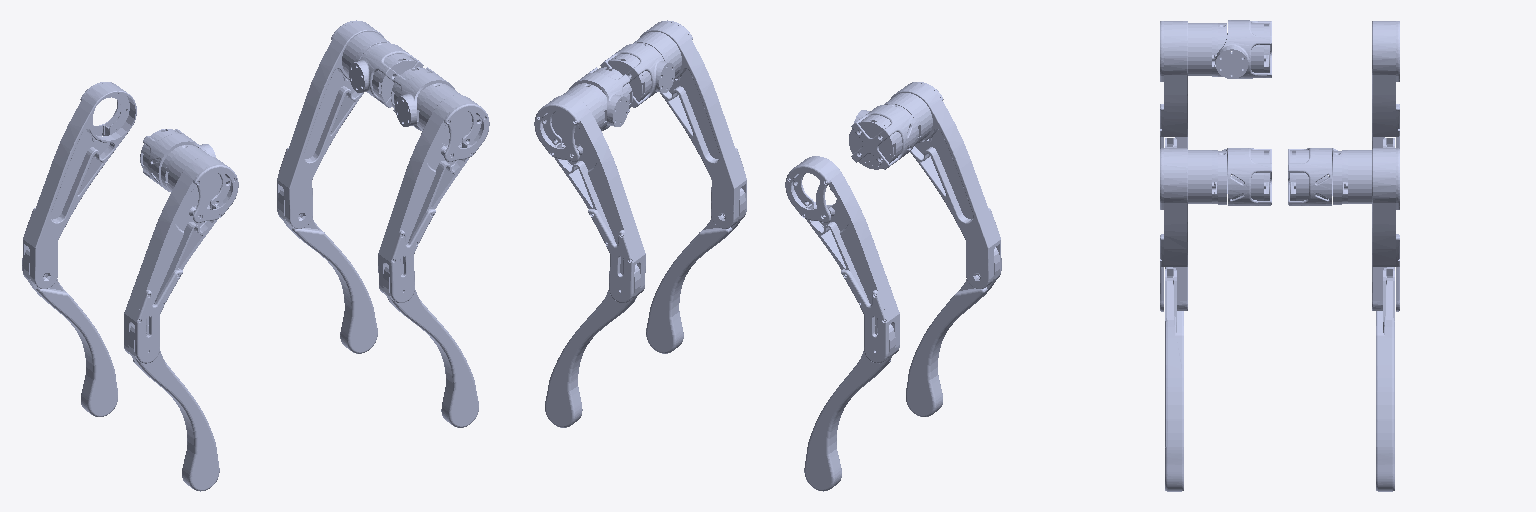
robot.urdf — littlewhite:
<?xml version="1.0" encoding="utf-8"?>
<robot
  name="littlewhite">
  <mujoco>
    <compiler
      meshdir="../meshes"
      balanceinertia="true"
      discardvisual="false" />
  </mujoco>
  <link
    name="base_link">
    <inertial>
      <origin
        xyz="-0.01204342 -0.00011397 -0.00061410"
        rpy="0 0 0" />
      <mass
        value="2.0" />
      <inertia 
        ixx="0.00509927" 
        iyy="0.01393531" 
        izz="0.01818843" 
        ixy="0.00000168" 
        iyz="0.00000252" 
        ixz="-0.00002258"/>
    </inertial>
    <visual>
      <origin
        xyz="0 0 0"
        rpy="0 0 0" />
      <geometry>
        <mesh
          filename="../meshes/base_link.STL" />
      </geometry>
      <material
        name="">
        <color
          rgba="0.792156862745098 0.819607843137255 0.933333333333333 1" />
      </material>
    </visual>
    <collision>
      <origin
        xyz="0 0 0"
        rpy="0 0 0" />
      <geometry>
        <mesh
          filename="../meshes/base_link_collision.stl" />
      </geometry>
    </collision>
  </link>
  <link
    name="FL_hip_link">
    <inertial>
      <origin
        xyz="0.03331333 0.00218418 -0.00003895"
        rpy="0 0 0" />
      <mass
        value="0.3" />
      <inertia 
        ixx="0.00026341" 
        iyy="0.00017811" 
        izz="0.00028488" 
        ixy="-0.00000101" 
        iyz="0.0000011" 
        ixz="-0.00000025"/>
    </inertial>
    <visual>
      <origin
        xyz="0 0 0"
        rpy="0 0 0" />
      <geometry>
        <mesh
          filename="../meshes/FL_hip_link.STL" />
      </geometry>
      <material
        name="">
        <color
          rgba="0.792156862745098 0.819607843137255 0.933333333333333 1" />
      </material>
    </visual>
    <collision>
      <origin
        xyz="0 0 0"
        rpy="0 0 0" />
      <geometry>
        <mesh
          filename="../meshes/FL_hip_collision.stl" />
      </geometry>
    </collision>
  </link>
  <joint
    name="FL_hip_joint"
    type="revolute">
    <origin
      xyz="0.1234 0.0510661438491521 0"
      rpy="0 0 0" />
    <parent
      link="base_link" />
    <child
      link="FL_hip_link" />
    <axis
      xyz="1 0 0" />
    <limit
      lower="-1.0472"
      upper="1.0472"
      effort="23.7"
      velocity="30.1" />
  </joint>
  <link
    name="FL_thigh_link">
    <inertial>
      <origin
        xyz="-0.04948796 0.00014953 -0.08497632"
        rpy="0 0 0" />
      <mass
        value="0.48" />
      <inertia 
        ixx="0.00169763" 
        iyy="0.00215821" 
        izz="0.00052878" 
        ixy="-0.00001723" 
        iyz="-0.00003114" 
        ixz="-0.00075516"/>
    </inertial>
    <visual>
      <origin
        xyz="0 0 0"
        rpy="0 0 0" />
      <geometry>
        <mesh
          filename="../meshes/FL_thigh_link.STL" />
      </geometry>
      <material
        name="">
        <color
          rgba="0.792156862745098 0.819607843137255 0.933333333333333 1" />
      </material>
    </visual>
    <collision>
      <origin
        xyz="0 0 0"
        rpy="0 0 0" />
      <geometry>
        <mesh
          filename="../meshes/FL_thigh_collision.stl" />
      </geometry>
    </collision>
  </link>
  <joint
    name="FL_thigh_joint"
    type="revolute">
    <origin
      xyz="0.0364999999998923 0.0595338561508431 0"
      rpy="0 0 0" />
    <parent
      link="FL_hip_link" />
    <child
      link="FL_thigh_link" />
    <axis
      xyz="0 1 0" />
    <limit
      lower="-1.5708"
      upper="1.5708"
      effort="23.7"
      velocity="30.1" />
  </joint>
  <link
    name="FL_calf_link">
    <inertial>
      <origin
        xyz="0.04216262 -0.00381767 -0.06204980"
        rpy="0 0 0" />
      <mass
        value="0.04" />
      <inertia 
        ixx="0.00007524" 
        iyy="0.00010881" 
        izz="0.00003626" 
        ixy="0.00000117" 
        iyz="-0.00000175" 
        ixz="0.0000485"/>
    </inertial>
    <visual>
      <origin
        xyz="0 0 0"
        rpy="0 0 0" />
      <geometry>
        <mesh
          filename="../meshes/FL_calf_link.STL" />
      </geometry>
      <material
        name="">
        <color
          rgba="0.792156862745098 0.819607843137255 0.933333333333333 1" />
      </material>
    </visual>
    <collision>
      <origin
        xyz="0 0 0"
        rpy="0 0 0" />
      <geometry>
        <mesh
          filename="../meshes/FL_calf_collision.stl" />
      </geometry>
    </collision>
  </link>
  <joint
    name="FL_calf_joint"
    type="revolute">
    <origin
      xyz="-0.0797979547511169 0.0057100000074559 -0.177734859753232"
      rpy="0 0 0" />
    <parent
      link="FL_thigh_link" />
    <child
      link="FL_calf_link" />
    <axis
      xyz="0 1 0" />
    <limit
      lower="-1.91"
      upper="0.0"
      effort="45.43"
      velocity="15.70" />
  </joint>
  <link
    name="FL_foot_link">
    <inertial>
      <origin
        xyz="0.00000526 0.00079999 -0.02548986"
        rpy="0 0 0" />
      <mass
        value="0.01000000" />
      <inertia
        ixx="0.00000939"
        ixy="0.00000000"
        ixz="0.00000000"
        iyy="0.00000881"
        iyz="-0.00000007"
        izz="0.00000129" />
    </inertial>
    <visual>
      <origin
        xyz="0 0 0"
        rpy="0 0 0" />
      <geometry>
        <mesh
          filename="../meshes/FL_paw_link.STL" />
      </geometry>
      <material
        name="">
        <color
          rgba="0.792156862745098 0.819607843137255 0.933333333333333 1" />
      </material>
    </visual>
    <collision>
      <origin
        xyz="0 0 0"
        rpy="0 0 0" />
      <geometry>
        <mesh
          filename="../meshes/FL_paw_collision.stl" />
      </geometry>
    </collision>
  </link>
  <joint
    name="FL_foot_joint"
    type="fixed">
    <origin
      xyz="0.0808648551671098 -0.00455000000710462 -0.13556178756198"
      rpy="0 0 -1.57079389681705" />
    <parent
      link="FL_calf_link" />
    <child
      link="FL_foot_link" />
    <axis
      xyz="0 0 0" />
  </joint>
  <link
    name="FR_hip_link">
    <inertial>
      <origin
        xyz="0.02763628 0.00800779 -0.00000706"
        rpy="0 0 0" />
      <mass
        value="0.3" />
      <inertia 
        ixx="0.00019088" 
        iyy="0.0002331" 
        izz="0.00024199" 
        ixy="-0.00002362" 
        iyz="-0.00000024" 
        ixz="-0.00000003"/>
    </inertial>
    <visual>
      <origin
        xyz="0 0 0"
        rpy="0 0 0" />
      <geometry>
        <mesh
          filename="../meshes/FR_hip_link.STL" />
      </geometry>
      <material
        name="">
        <color
          rgba="0.792156862745098 0.819607843137255 0.933333333333333 1" />
      </material>
    </visual>
    <collision>
      <origin
        xyz="0 0 0"
        rpy="0 0 0" />
      <geometry>
        <mesh
          filename="../meshes/FR_hip_collision.stl" />
      </geometry>
    </collision>
  </link>
  <joint
    name="FR_hip_joint"
    type="revolute">
    <origin
      xyz="0.1234 -0.0509338542435013 0"
      rpy="0 0 0" />
    <parent
      link="base_link" />
    <child
      link="FR_hip_link" />
    <axis
      xyz="1 0 0" />
    <limit
      lower="-1.0472"
      upper="1.0472"
      effort="23.7"
      velocity="30.1" />
  </joint>
  <link
    name="FR_thigh_link">
    <inertial>
      <origin
        xyz="-0.04948940 -0.00014939 -0.08497556"
        rpy="0 0 0" />
      <mass
        value="0.48" />
      <inertia 
        ixx="0.00169762" 
        iyy="0.0021581" 
        izz="0.00052868" 
        ixy="0.00001724" 
        iyz="0.00003113" 
        ixz="-0.00075512"/>
    </inertial>
    <visual>
      <origin
        xyz="0 0 0"
        rpy="0 0 0" />
      <geometry>
        <mesh
          filename="../meshes/FR_thigh_link.STL" />
      </geometry>
      <material
        name="">
        <color
          rgba="0.792156862745098 0.819607843137255 0.933333333333333 1" />
      </material>
    </visual>
    <collision>
      <origin
        xyz="0 0 0"
        rpy="0 0 0" />
      <geometry>
        <mesh
          filename="../meshes/FR_thigh_collision.stl" />
      </geometry>
    </collision>
  </link>
  <joint
    name="FR_thigh_joint"
    type="revolute">
    <origin
      xyz="0.0364999999998896 -0.0596661457564947 0"
      rpy="0 0 0" />
    <parent
      link="FR_hip_link" />
    <child
      link="FR_thigh_link" />
    <axis
      xyz="0 1 0" />
    <limit
      lower="-1.5708"
      upper="1.5708"
      effort="23.7"
      velocity="30.1" />
  </joint>
  <link
    name="FR_calf_link">
    <inertial>
      <origin
        xyz="0.04216523 0.00382068 -0.06204916"
        rpy="0 0 0" />
      <mass
        value="0.04" />
      <inertia 
        ixx="0.00007524" 
        iyy="0.00010881" 
        izz="0.00003627" 
        ixy="-0.00000117" 
        iyz="0.00000176" 
        ixz="0.00004851"/>
    </inertial>
    <visual>
      <origin
        xyz="0 0 0"
        rpy="0 0 0" />
      <geometry>
        <mesh
          filename="../meshes/FR_calf_link.STL" />
      </geometry>
      <material
        name="">
        <color
          rgba="0.792156862745098 0.819607843137255 0.933333333333333 1" />
      </material>
    </visual>
    <collision>
      <origin
        xyz="0 0 0"
        rpy="0 0 0" />
      <geometry>
        <mesh
          filename="../meshes/FR_calf_collision.stl" />
      </geometry>
    </collision>
  </link>
  <joint
    name="FR_calf_joint"
    type="revolute">
    <origin
      xyz="-0.07979795475272 -0.00571000000745676 -0.177734859752691"
      rpy="0 0 0" />
    <parent
      link="FR_thigh_link" />
    <child
      link="FR_calf_link" />
    <axis
      xyz="0 1 0" />
    <limit
      lower="-1.91"
      upper="0.0"
      effort="45.43"
      velocity="15.70" />
  </joint>
  <link
    name="FR_foot_link">
    <inertial>
        <origin
          xyz="0.00078591 0.00000000 -0.02549509"
          rpy="0 0 0" />
        <mass
          value="0.01000000" />
        <inertia
          ixx="0.00000881"
          ixy="0.00000000"
          ixz="-0.00000007"
          iyy="0.00000939"
          iyz="0.00000000"
          izz="0.00000129" />
      </inertial>
    <visual>
      <origin
        xyz="0 0 0"
        rpy="0 0 0" />
      <geometry>
        <mesh
          filename="../meshes/FR_paw_link.STL" />
      </geometry>
      <material
        name="">
        <color
          rgba="0.792156862745098 0.819607843137255 0.933333333333333 1" />
      </material>
    </visual>
    <collision>
      <origin
        xyz="0 0 0"
        rpy="0 0 0" />
      <geometry>
        <mesh
          filename="../meshes/FL_paw_collision.stl" />
      </geometry>
    </collision>
  </link>
  <joint
    name="FR_foot_joint"
    type="fixed">
    <origin
      xyz="0.0808736911194098 0.00455000000745538 -0.135559326977152"
      rpy="0 0 0" />
    <parent
      link="FR_calf_link" />
    <child
      link="FR_foot_link" />
    <axis
      xyz="0 0 0" />
  </joint>
  <link
    name="RL_hip_link">
    <inertial>
      <origin
        xyz="-0.03348869 0.00218418 -0.00018813"
        rpy="0 0 0" />
      <mass
        value="0.3" />
      <inertia 
        ixx="0.00026341" 
        iyy="0.00017842" 
        izz="0.00028519" 
        ixy="0.0000014" 
        iyz="-0.00000075" 
        ixz="-0.00000036"/>
    </inertial>
    <visual>
      <origin
        xyz="0 0 0"
        rpy="0 0 0" />
      <geometry>
        <mesh
          filename="../meshes/RL_hip_link.STL" />
      </geometry>
      <material
        name="">
        <color
          rgba="0.792156862745098 0.819607843137255 0.933333333333333 1" />
      </material>
    </visual>
    <collision>
      <origin
        xyz="0 0 0"
        rpy="0 0 0" />
      <geometry>
        <mesh
          filename="../meshes/RL_hip_collision.stl" />
      </geometry>
    </collision>
  </link>
  <joint
    name="RL_hip_joint"
    type="revolute">
    <origin
      xyz="-0.1234 0.0510661438491522 0"
      rpy="0 0 0" />
    <parent
      link="base_link" />
    <child
      link="RL_hip_link" />
    <axis
      xyz="1 0 0" />
    <limit
      lower="-1.0472"
      upper="1.0472"
      effort="23.7"
      velocity="30.1" />
  </joint>
  <link
    name="RL_thigh_link">
    <inertial>
      <origin
        xyz="-0.05192485 0.00014953 -0.08350948"
        rpy="0 0 0" />
      <mass
        value="0.48" />
      <inertia 
        ixx="0.00165299" 
        iyy="0.00215822" 
        izz="0.00057342" 
        ixy="-0.00001812" 
        iyz="-0.00003062" 
        ixz="-0.00078769"/>
    </inertial>
    <visual>
      <origin
        xyz="0 0 0"
        rpy="0 0 0" />
      <geometry>
        <mesh
          filename="../meshes/RL_thigh_link.STL" />
      </geometry>
      <material
        name="">
        <color
          rgba="0.792156862745098 0.819607843137255 0.933333333333333 1" />
      </material>
    </visual>
    <collision>
      <origin
        xyz="0 0 0"
        rpy="0 0 0" />
      <geometry>
        <mesh
          filename="../meshes/FL_thigh_collision.stl" />
      </geometry>
    </collision>
  </link>
  <joint
    name="RL_thigh_joint"
    type="revolute">
    <origin
      xyz="-0.0364999999998925 0.059533856150843 0"
      rpy="0 0 0" />
    <parent
      link="RL_hip_link" />
    <child
      link="RL_thigh_link" />
    <axis
      xyz="0 1 0" />
    <limit
      lower="-1.5708"
      upper="1.5708"
      effort="23.7"
      velocity="30.1" />
  </joint>
  <link
    name="RL_calf_link">
    <inertial>
      <origin
        xyz="0.03963025 -0.00382049 -0.06348497"
        rpy="0 0 0" />
      <mass
        value="0.04" />
      <inertia 
        ixx="0.00007859" 
        iyy="0.00010881" 
        izz="0.00003292" 
        ixy="0.00000111" 
        iyz="-0.0000018" 
        ixz="0.00004703"/>
    </inertial>
    <visual>
      <origin
        xyz="0 0 0"
        rpy="0 0 0" />
      <geometry>
        <mesh
          filename="../meshes/RL_calf_link.STL" />
      </geometry>
      <material
        name="">
        <color
          rgba="0.792156862745098 0.819607843137255 0.933333333333333 1" />
      </material>
    </visual>
    <collision>
      <origin
        xyz="0 0 0"
        rpy="0 0 0" />
      <geometry>
        <mesh
          filename="../meshes/FL_calf_collision.stl" />
      </geometry>
    </collision>
  </link>
  <joint
    name="RL_calf_joint"
    type="revolute">
    <origin
      xyz="-0.0845699035706932 0.00571000000745585 -0.175355557164464"
      rpy="0 0 0" />
    <parent
      link="RL_thigh_link" />
    <child
      link="RL_calf_link" />
    <axis
      xyz="0 1 0" />
    <limit
      lower="-1.91"
      upper="0.0"
      effort="45.43"
      velocity="15.70" />
  </joint>
  <link
    name="RL_foot_link">
    <inertial>
      <origin
        xyz="-0.00010845 0.00000000 -0.02550655"
        rpy="0 0 0" />
      <mass
        value="0.01000000" />
      <inertia
        ixx="0.00000881"
        ixy="0.00000000"
        ixz="0.00000020"
        iyy="0.00000939"
        iyz="0.00000000"
        izz="0.00000129" />
    </inertial>
    <visual>
      <origin
        xyz="0 0 0"
        rpy="0 0 0" />
      <geometry>
        <mesh
          filename="../meshes/RL_paw_link.STL" />
      </geometry>
      <material
        name="">
        <color
          rgba="0.792156862745098 0.819607843137255 0.933333333333333 1" />
      </material>
    </visual>
    <collision>
      <origin
        xyz="0 0 0"
        rpy="0 0 0" />
      <geometry>
        <mesh
          filename="../meshes/FL_paw_collision.stl" />
      </geometry>
    </collision>
  </link>
  <joint
    name="RL_foot_joint"
    type="fixed">
    <origin
      xyz="0.0757392521105553 -0.00455000000746522 -0.138306710543388"
      rpy="0 0 0" />
    <parent
      link="RL_calf_link" />
    <child
      link="RL_foot_link" />
    <axis
      xyz="0.94688 0 -0.32158" />
  </joint>
  <link
    name="RR_hip_link">
    <inertial>
      <origin
        xyz="-0.02767159 0.00800779 -0.00003868"
        rpy="0 0 0" />
      <mass
        value="0.3" />
      <inertia 
        ixx="0.00019089" 
        iyy="0.00023328" 
        izz="0.00024218" 
        ixy="0.00002343" 
        iyz="0.00000004" 
        ixz="-0.00000014"/>
    </inertial>
    <visual>
      <origin
        xyz="0 0 0"
        rpy="0 0 0" />
      <geometry>
        <mesh
          filename="../meshes/RR_hip_link.STL" />
      </geometry>
      <material
        name="">
        <color
          rgba="0.792156862745098 0.819607843137255 0.933333333333333 1" />
      </material>
    </visual>
    <collision>
      <origin
        xyz="0 0 0"
        rpy="0 0 0" />
      <geometry>
        <mesh
          filename="../meshes/RR_hip_collision.stl" />
      </geometry>
    </collision>
  </link>
  <joint
    name="RR_hip_joint"
    type="revolute">
    <origin
      xyz="-0.1234 -0.0509338542435013 0"
      rpy="0 0 0" />
    <parent
      link="base_link" />
    <child
      link="RR_hip_link" />
    <axis
      xyz="1 0 0" />
    <limit
      lower="-1.0472"
      upper="1.0472"
      effort="23.7"
      velocity="30.1" />
  </joint>
  <link
    name="RR_thigh_link">
    <inertial>
      <origin
        xyz="-0.05192615 -0.00014945 -0.08350805"
        rpy="0 0 0" />
      <mass
        value="0.48" />
      <inertia 
        ixx="0.00165301" 
        iyy="0.00215813" 
        izz="0.00057332" 
        ixy="0.00001813" 
        iyz="0.0000306" 
        ixz="-0.00078767"/>
    </inertial>
    <visual>
      <origin
        xyz="0 0 0"
        rpy="0 0 0" />
      <geometry>
        <mesh
          filename="../meshes/RR_thigh_link.STL" />
      </geometry>
      <material
        name="">
        <color
          rgba="0.792156862745098 0.819607843137255 0.933333333333333 1" />
      </material>
    </visual>
    <collision>
      <origin
        xyz="0 0 0"
        rpy="0 0 0" />
      <geometry>
        <mesh
          filename="../meshes/FR_thigh_collision.stl" />
      </geometry>
    </collision>
  </link>
  <joint
    name="RR_thigh_joint"
    type="revolute">
    <origin
      xyz="-0.0364999999998896 -0.0596661457564947 0"
      rpy="0 0 0" />
    <parent
      link="RR_hip_link" />
    <child
      link="RR_thigh_link" />
    <axis
      xyz="0 1 0" />
    <limit
      lower="-1.5708"
      upper="1.5708"
      effort="23.7"
      velocity="30.1" />
  </joint>
  <link
    name="RR_calf_link">
    <inertial>
      <origin
        xyz="0.03996525 0.00382068 -0.06348829"
        rpy="0 0 0" />
      <mass
        value="0.04" />
      <inertia 
        ixx="0.00007859" 
        iyy="0.00010881" 
        izz="0.00003292" 
        ixy="-0.00000111" 
        iyz="0.0000018" 
        ixz="0.00004703"/>
    </inertial>
    <visual>
      <origin
        xyz="0 0 0"
        rpy="0 0 0" />
      <geometry>
        <mesh
          filename="../meshes/RR_calf_link.STL" />
      </geometry>
      <material
        name="">
        <color
          rgba="0.792156862745098 0.819607843137255 0.933333333333333 1" />
      </material>
    </visual>
    <collision>
      <origin
        xyz="0 0 0"
        rpy="0 0 0" />
      <geometry>
        <mesh
          filename="../meshes/FR_calf_collision.stl" />
      </geometry>
    </collision>
  </link>
  <joint
    name="RR_calf_joint"
    type="revolute">
    <origin
      xyz="-0.0849050519458896 -0.00571000000745676 -0.175352576565309"
      rpy="0 0 0" />
    <parent
      link="RR_thigh_link" />
    <child
      link="RR_calf_link" />
    <axis
      xyz="0 1 0" />
    <limit
      lower="-1.91"
      upper="0.0"
      effort="45.43"
      velocity="15.70" />
  </joint>
  <link
    name="RR_foot_link">
    <inertial>
      <origin
        xyz="-0.00010786 0.00000000 -0.02550697"
        rpy="0 0 0" />
      <mass
        value="0.01000000" />
      <inertia
        ixx="0.00000881"
        ixy="0.00000000"
        ixz="0.00000020"
        iyy="0.00000939"
        iyz="0.00000000"
        izz="0.00000129" />
    </inertial>
    <visual>
      <origin
        xyz="0 0 0"
        rpy="0 0 0" />
      <geometry>
        <mesh
          filename="../meshes/RR_paw_link.STL" />
      </geometry>
      <material
        name="">
        <color
          rgba="0.792156862745098 0.819607843137255 0.933333333333333 1" />
      </material>
    </visual>
    <collision>
      <origin
        xyz="0 0 0"
        rpy="0 0 0" />
      <geometry>
        <mesh
          filename="../meshes/FL_paw_collision.stl" />
      </geometry>
    </collision>
  </link>
  <joint
    name="RR_foot_joint"
    type="fixed">
    <origin
      xyz="0.0760744000854129 0.00455000000746143 -0.138309691263331"
      rpy="0 0 0" />
    <parent
      link="RR_calf_link" />
    <child
      link="RR_foot_link" />
    <axis
      xyz="0 0 0" />
  </joint>
</robot>

--- What the picture shows (computed from the rendered views, not written in the file) ---
The picture shows the robot from 3 angles, left to right: view 1: azimuth 30°, elevation 25°; view 2: azimuth 150°, elevation 25°; view 3: azimuth 270°, elevation 25°; orthographic projection.
Model littlewhite with 17 links and 16 joints (12 revolute, 4 fixed), rooted at base_link, posed all joints at 0.
Links seen in each view (by area): view 1: RR_thigh_link, FR_thigh_link, RL_thigh_link, FL_thigh_link, FL_hip_link, RR_hip_link, FR_hip_link, RR_calf_link, FR_calf_link, RL_calf_link, FL_calf_link, RR_foot_link (+3 smaller); view 2: RL_thigh_link, FL_thigh_link, RR_thigh_link, FR_thigh_link, RR_hip_link, FR_hip_link, FL_hip_link, RL_calf_link, FL_calf_link, RR_calf_link, FR_calf_link, RL_foot_link (+3 smaller); view 3: FL_hip_link, FR_hip_link, RR_hip_link, FL_thigh_link, FR_thigh_link, RL_thigh_link, RR_thigh_link, FL_calf_link, FR_calf_link, FL_foot_link, FR_foot_link.
Link boxes in pixels (<box>): RR_thigh_link: <box>124,156,238,363</box>; FR_thigh_link: <box>378,95,489,302</box>; RL_thigh_link: <box>22,82,136,288</box>; FL_thigh_link: <box>277,20,383,228</box>; FL_hip_link: <box>342,32,423,107</box>; RR_hip_link: <box>140,129,226,207</box>; FR_hip_link: <box>391,67,477,145</box>; RR_calf_link: <box>128,324,215,453</box>; FR_calf_link: <box>383,264,473,390</box>; RL_calf_link: <box>23,247,113,379</box>; FL_calf_link: <box>278,188,372,316</box>; RR_foot_link: <box>182,443,219,491</box>; RL_thigh_link: <box>785,156,899,363</box>; FL_thigh_link: <box>534,95,645,302</box>; RR_thigh_link: <box>890,82,1001,288</box>; FR_thigh_link: <box>640,20,746,228</box>; RR_hip_link: <box>849,93,932,169</box>; FR_hip_link: <box>600,32,681,107</box>; FL_hip_link: <box>546,67,632,145</box>; RL_calf_link: <box>808,324,895,453</box>; FL_calf_link: <box>550,264,640,390</box>; RR_calf_link: <box>910,247,1000,379</box>; FR_calf_link: <box>651,188,745,316</box>; RL_foot_link: <box>804,443,841,491</box>; FL_hip_link: <box>1288,148,1371,205</box>; FR_hip_link: <box>1188,148,1271,205</box>; RR_hip_link: <box>1188,20,1271,78</box>; FL_thigh_link: <box>1372,148,1399,311</box>; FR_thigh_link: <box>1160,148,1187,311</box>; RL_thigh_link: <box>1372,21,1399,148</box>; RR_thigh_link: <box>1160,21,1187,148</box>; FL_calf_link: <box>1376,269,1394,446</box>; FR_calf_link: <box>1165,269,1183,446</box>; FL_foot_link: <box>1376,447,1394,491</box>; FR_foot_link: <box>1165,447,1183,491</box>.
Bounding box of the posed robot: 0.4514 × 0.2552 × 0.3967 m (x, y, z).
Meshes: 17 distinct files referenced, 15 mesh visuals loaded (15 binary STL); not drawn: 2 (reference not matched to a file when rendering).
